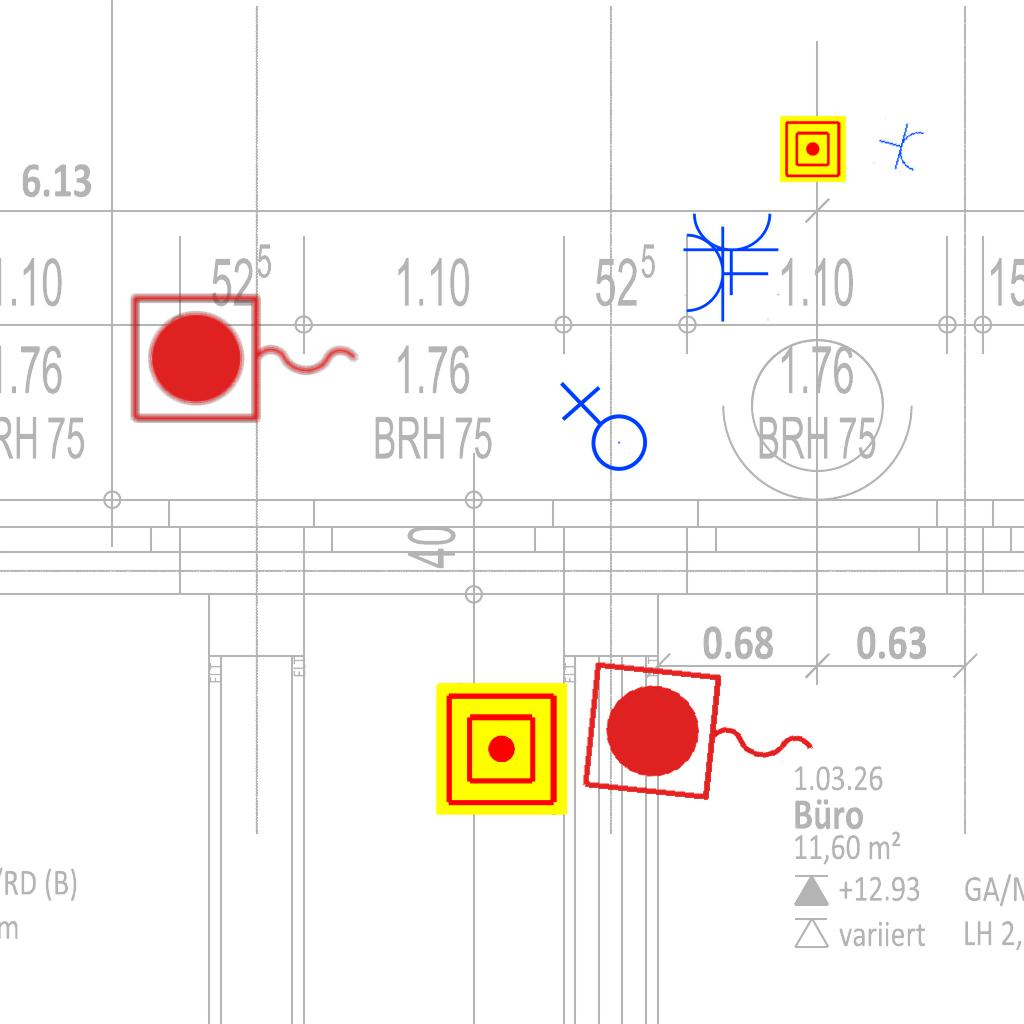Elektroanschluss_allgemein_230V_Geraeteanschlussdose_230V: (555, 381, 649, 480)
NAM-Nichtautomatischer_Melder: (436, 683, 568, 815), (780, 116, 846, 182)
Schukosteckdose_einfach: (682, 209, 782, 296), (682, 223, 769, 323), (872, 116, 928, 177)
Zugtaster: (573, 653, 831, 823), (124, 288, 368, 432)
